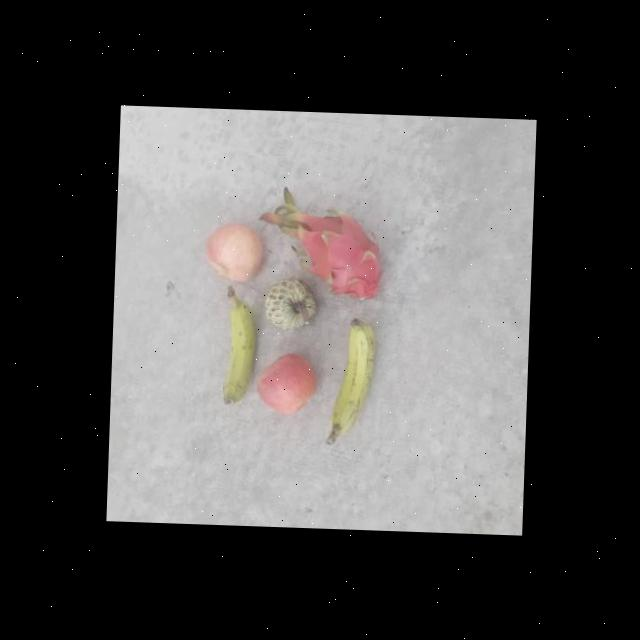Sakya fruit: (258, 272, 318, 332)
apple: (252, 350, 319, 417), (201, 219, 265, 283)
banana: (324, 314, 379, 438), (215, 293, 262, 408)
pitaya: (299, 205, 386, 304)
